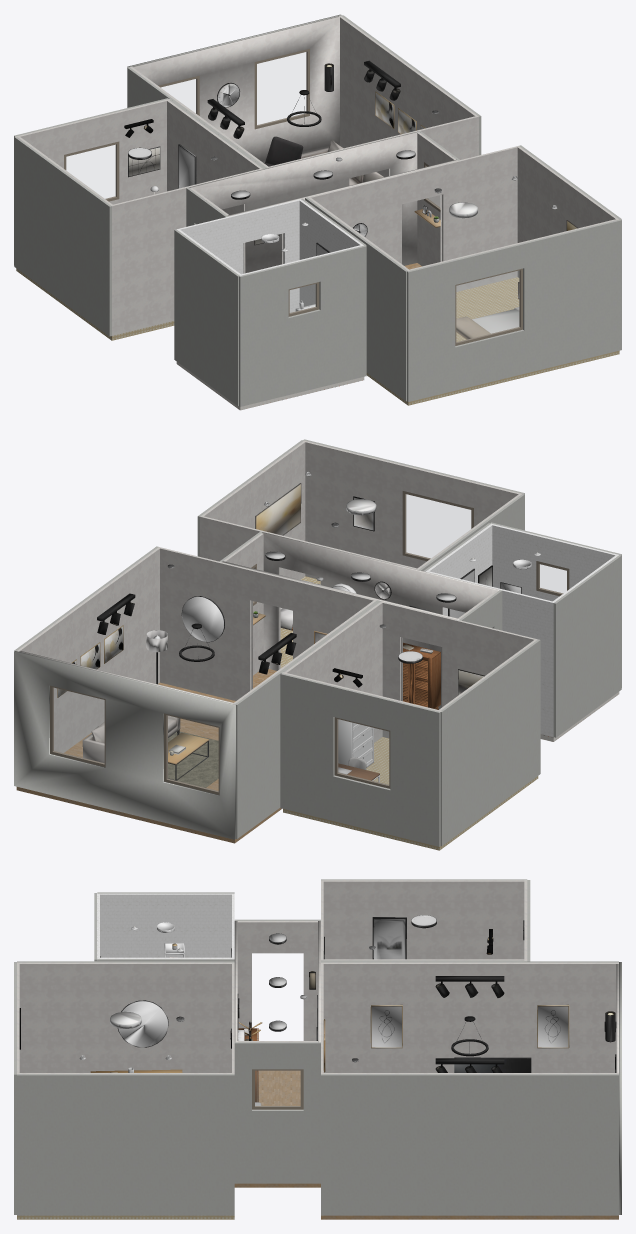
The model's file is scene_named.glb.
3 renders of one model, top to bottom at view 1: azimuth 30°, elevation 25°; view 2: azimuth 150°, elevation 25°; view 3: azimuth 270°, elevation 25°, orthographic. The views are drawn at different scales.
Visible parts, largest first — view 1: south_wall_exterior_bedroom/south_wall_exterior_bedroom/geom, south_wall_exterior_bathroom/south_wall_exterior_bathroom/ge, west_wall_exterior_bedroom_2/west_wall_exterior_bedroom_2/ge, north_wall_bedroom/north_wall_bedroom/geometry_0, north_wall_living_room/north_wall_living_room/geometry_0, north_wall_hallway/north_wall_hallway/geometry_0, south_wall_bedroom_2/south_wall_bedroom_2/geometry_0, west_wall_exterior_bathroom/west_wall_exterior_bathroom/geom, east_wall_living_room/east_wall_living_room/geometry_0, north_wall_bedroom_2/north_wall_bedroom_2/geometry_0, west_wall_exterior_bedroom/west_wall_exterior_bedroom/geomet, east_wall_bedroom/east_wall_bedroom/geometry_0 (+25 smaller); view 2: north_wall_exterior_living_room/north_wall_exterior_living_r, north_wall_exterior_bedroom_2/north_wall_exterior_bedroom_2/, south_wall_living_room/south_wall_living_room/geometry_0, west_wall_exterior_bedroom_2/west_wall_exterior_bedroom_2/ge, south_wall_bedroom/south_wall_bedroom/geometry_0, east_wall_living_room/east_wall_living_room/geometry_0, west_wall_exterior_bathroom/west_wall_exterior_bathroom/geom, south_wall_hallway/south_wall_hallway/geometry_0, south_wall_bedroom_2/south_wall_bedroom_2/geometry_0, west_wall_exterior_living_room/west_wall_exterior_living_roo, east_wall_bedroom_2/east_wall_bedroom_2/geometry_0, south_wall_bathroom/south_wall_bathroom/geometry_0 (+30 smaller); view 3: east_wall_exterior_living_room/east_wall_exterior_living_roo, east_wall_exterior_bedroom/east_wall_exterior_bedroom/geomet, west_wall_living_room/west_wall_living_room/geometry_0, west_wall_bedroom/west_wall_bedroom/geometry_0, west_wall_bedroom_2/west_wall_bedroom_2/geometry_0, east_wall_exterior_hallway/east_wall_exterior_hallway/geomet, west_wall_bathroom/west_wall_bathroom/geometry_0, west_wall_hallway/west_wall_hallway/geometry_0, floor_hallway, window_3_hallway/window_3_hallway/glass, mirror_0.002, print_0.003 (+13 smaller).
Part boxes in pixels (x1,y1,x2,y2): south_wall_exterior_bedroom/south_wall_exterior_bedroom/geom: [407, 219, 621, 401]; south_wall_exterior_bathroom/south_wall_exterior_bathroom/ge: [239, 245, 366, 406]; west_wall_exterior_bedroom_2/west_wall_exterior_bedroom_2/ge: [14, 136, 111, 336]; north_wall_bedroom/north_wall_bedroom/geometry_0: [310, 146, 517, 291]; north_wall_living_room/north_wall_living_room/geometry_0: [132, 16, 339, 162]; north_wall_hallway/north_wall_hallway/geometry_0: [189, 131, 419, 273]; south_wall_bedroom_2/south_wall_bedroom_2/geometry_0: [111, 168, 262, 335]; west_wall_exterior_bathroom/west_wall_exterior_bathroom/geom: [174, 229, 239, 405]; east_wall_living_room/east_wall_living_room/geometry_0: [339, 16, 478, 177]; north_wall_bedroom_2/north_wall_bedroom_2/geometry_0: [16, 99, 169, 204]; west_wall_exterior_bedroom/west_wall_exterior_bedroom/geomet: [305, 197, 407, 401]; east_wall_bedroom/east_wall_bedroom/geometry_0: [517, 146, 618, 277]; north_wall_exterior_living_room/north_wall_exterior_living_r: [14, 651, 235, 839]; north_wall_exterior_bedroom_2/north_wall_exterior_bedroom_2/: [280, 673, 440, 846]; south_wall_living_room/south_wall_living_room/geometry_0: [160, 547, 374, 700]; west_wall_exterior_bedroom_2/west_wall_exterior_bedroom_2/ge: [440, 639, 540, 846]; south_wall_bedroom/south_wall_bedroom/geometry_0: [305, 441, 519, 578]; east_wall_living_room/east_wall_living_room/geometry_0: [17, 547, 160, 752]; west_wall_exterior_bathroom/west_wall_exterior_bathroom/geom: [553, 555, 621, 737]; south_wall_hallway/south_wall_hallway/geometry_0: [262, 532, 499, 709]; south_wall_bedroom_2/south_wall_bedroom_2/geometry_0: [380, 602, 537, 738]; west_wall_exterior_living_room/west_wall_exterior_living_roo: [235, 600, 379, 838]; east_wall_bedroom_2/east_wall_bedroom_2/geometry_0: [284, 601, 383, 742]; south_wall_bathroom/south_wall_bathroom/geometry_0: [492, 524, 616, 601]; east_wall_exterior_living_room/east_wall_exterior_living_roo: [321, 1074, 618, 1215]; east_wall_exterior_bedroom/east_wall_exterior_bedroom/geomet: [17, 1074, 234, 1215]; west_wall_living_room/west_wall_living_room/geometry_0: [321, 962, 618, 1072]; west_wall_bedroom/west_wall_bedroom/geometry_0: [17, 962, 234, 1072]; west_wall_bedroom_2/west_wall_bedroom_2/geometry_0: [323, 880, 524, 959]; east_wall_exterior_hallway/east_wall_exterior_hallway/geomet: [234, 1042, 320, 1183]; west_wall_bathroom/west_wall_bathroom/geometry_0: [97, 893, 234, 957]; west_wall_hallway/west_wall_hallway/geometry_0: [237, 921, 317, 1040]; floor_hallway: [234, 1070, 320, 1187]; window_3_hallway/window_3_hallway/glass: [255, 1071, 300, 1106]; mirror_0.002: [117, 1000, 168, 1047]; print_0.003: [372, 917, 406, 959].
Bounding box in the file's own units: 8.09 × 2.8 × 10.6.
113 materials, 104 textured.
